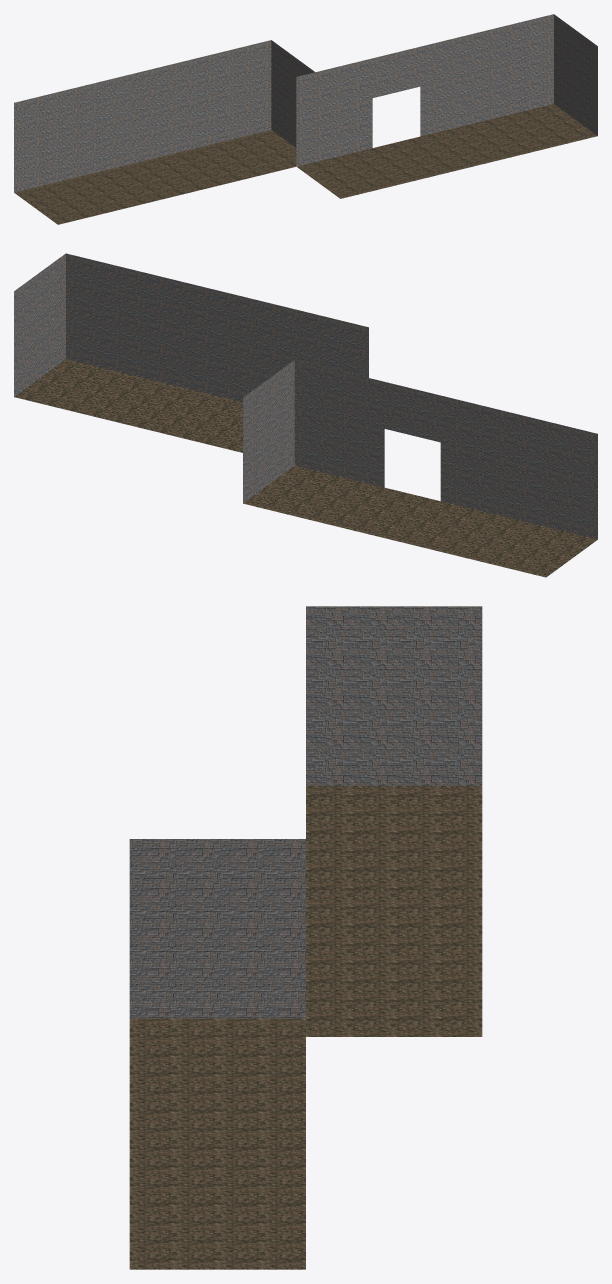
File: room.gltf
The picture shows the model from 3 angles, top to bottom: view 1: azimuth 30°, elevation 25°; view 2: azimuth 150°, elevation 25°; view 3: azimuth 270°, elevation 25°; orthographic projection. The views are drawn at different scales.
Visible parts, largest first — view 1: child, parent; view 2: child, parent; view 3: parent, child.
Boxes of the visible parts, bbox=[...] form: child: bbox=[14, 40, 314, 224]; parent: bbox=[296, 14, 597, 198]; child: bbox=[243, 360, 597, 577]; parent: bbox=[14, 253, 368, 452]; parent: bbox=[129, 839, 305, 1269]; child: bbox=[306, 606, 482, 1036].
Bounding box in the file's own units: 26 × 4.5 × 8.
